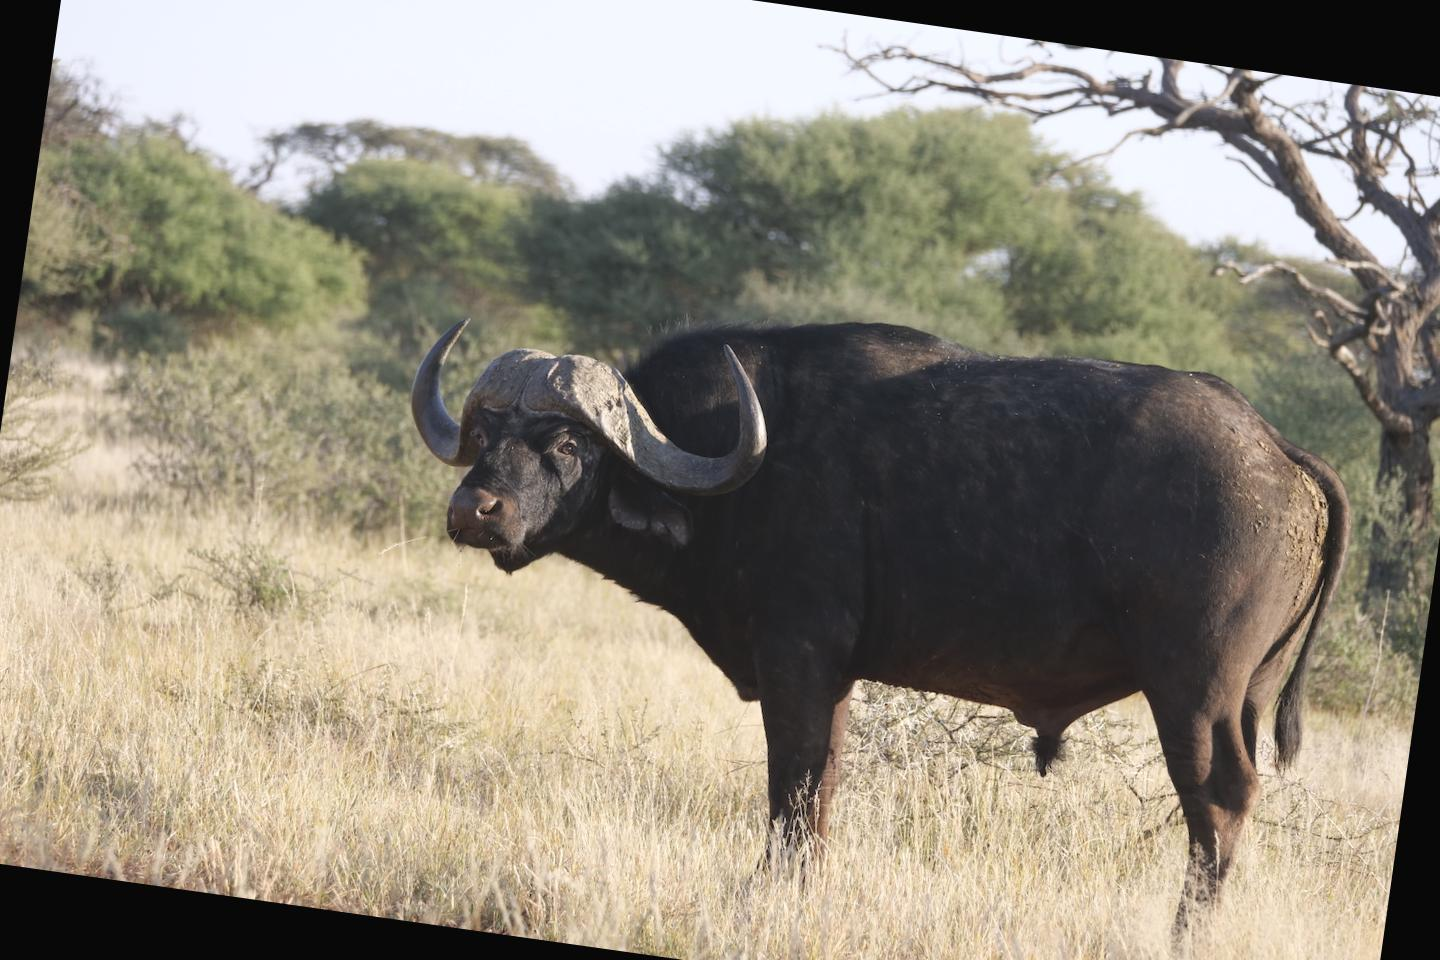Buffalo: (318, 44, 1440, 960)
